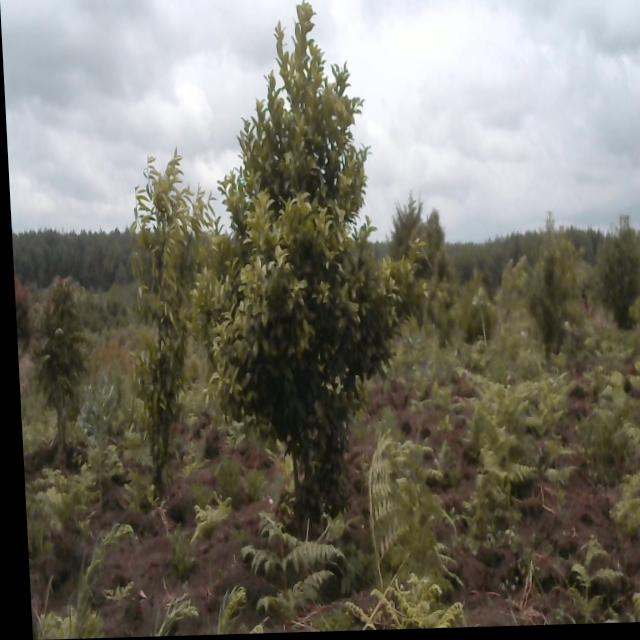Hass Avocado: (189, 1, 404, 518), (118, 147, 209, 492)
Polyscias fulva: (22, 270, 94, 460)
cedrus: (381, 188, 429, 262)
